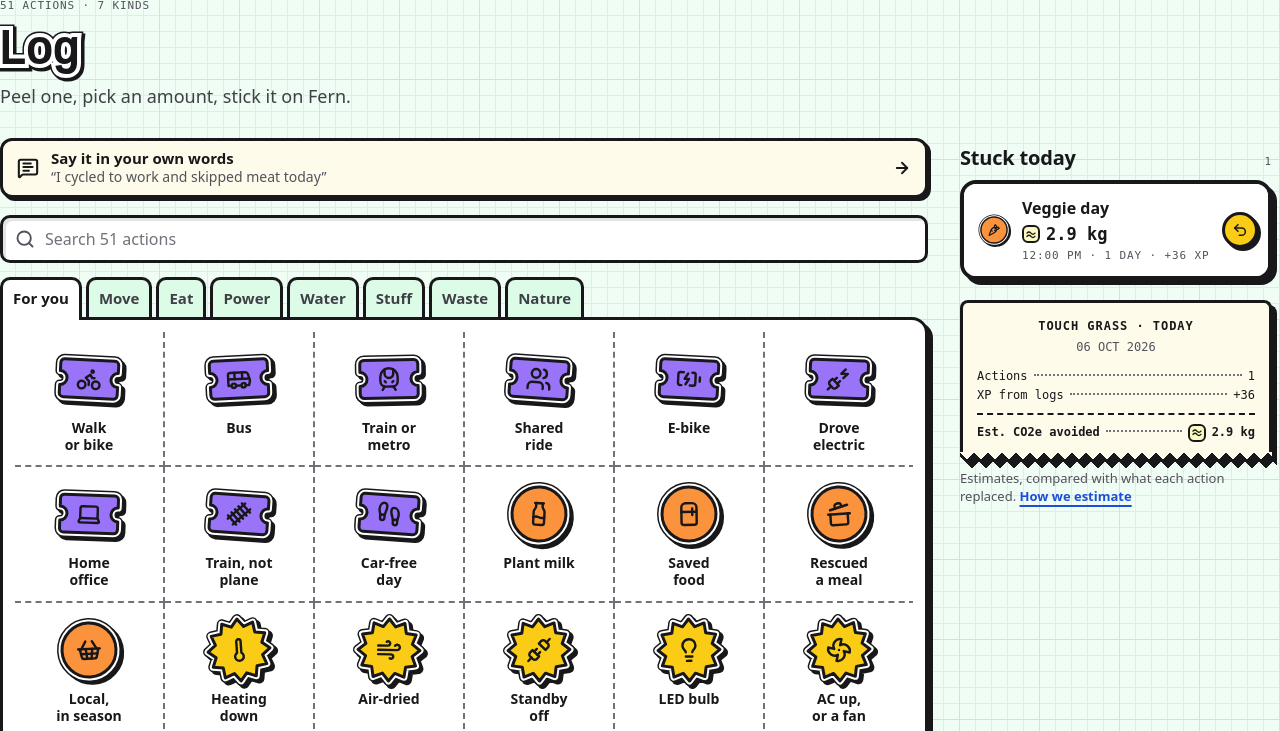
Test: caps and overlap groups › covers the meal tiles once a diet day is logged
Click the tab "Eat" at (181, 297), box top-left (156, 277), bottom-right (206, 317)
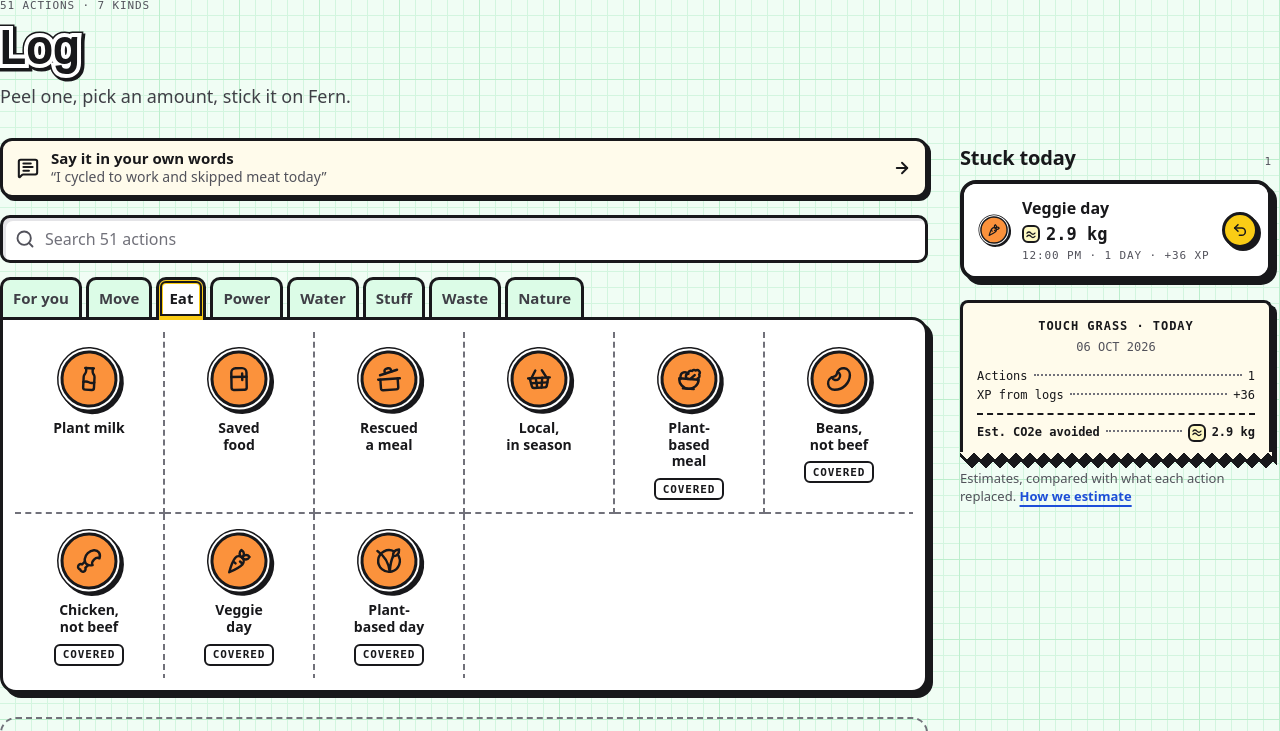
Expected: the 2nd text "Covered" is shown, top-left (654, 478), bottom-right (724, 500)
Click the button with aria-label "Plant-based meal:" at (689, 423), box top-left (652, 346), bottom-right (726, 500)
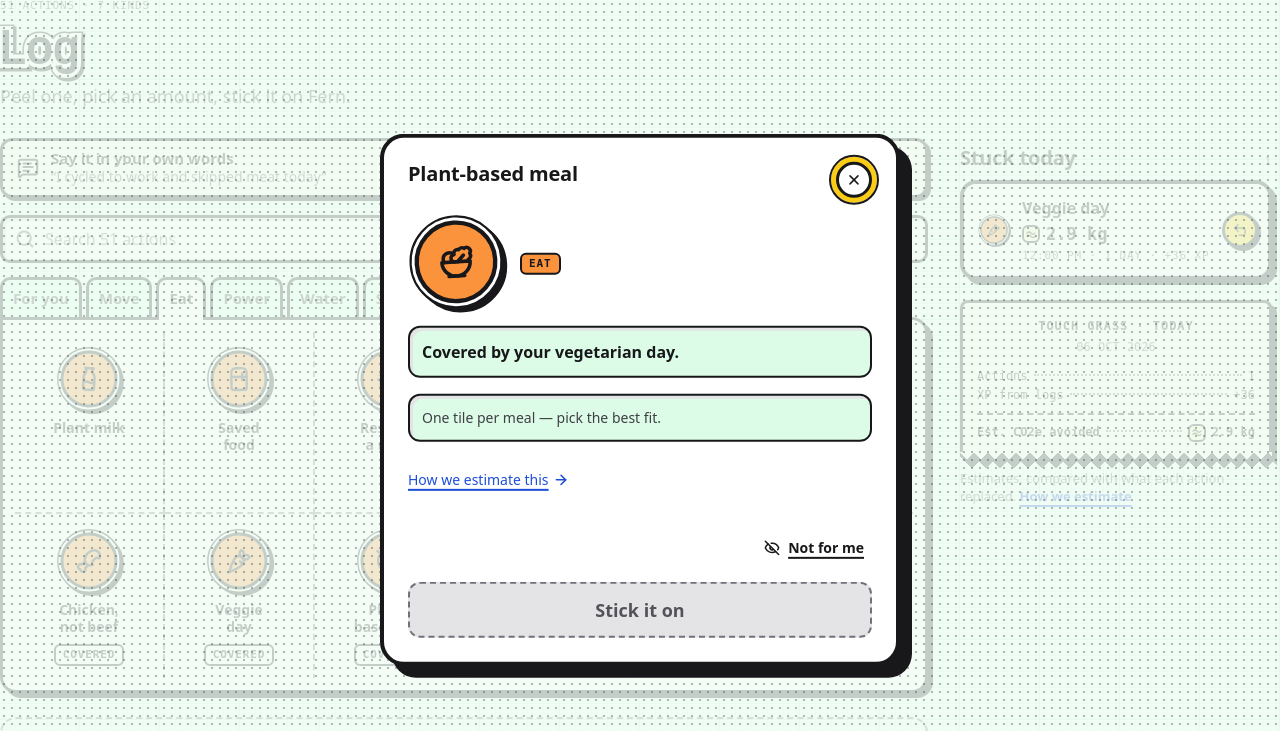
Now the message reads "Covered by your vegetarian day.", box top-left (422, 341), bottom-right (679, 363)
